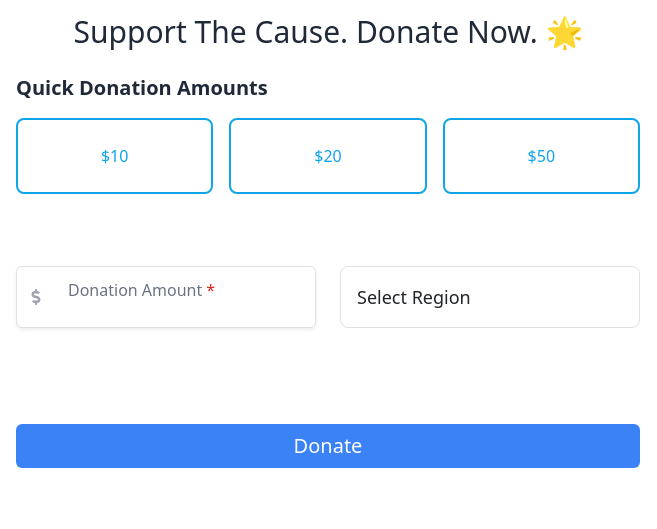
Test: Testing Donation feature › validates donation amount
// Try submitting with 0
Type "0" into the field with test id "donation amount".
click(166, 297); type("0")  # box [16, 266, 316, 328]
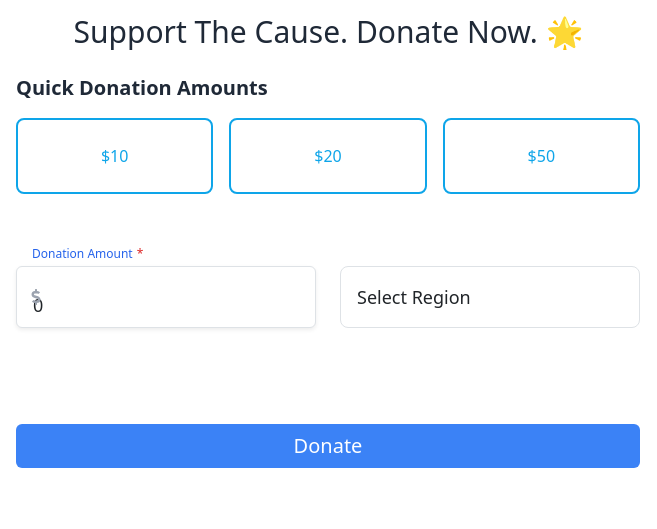
Click the button "Donate".
click(328, 446)  # box [16, 424, 640, 468]
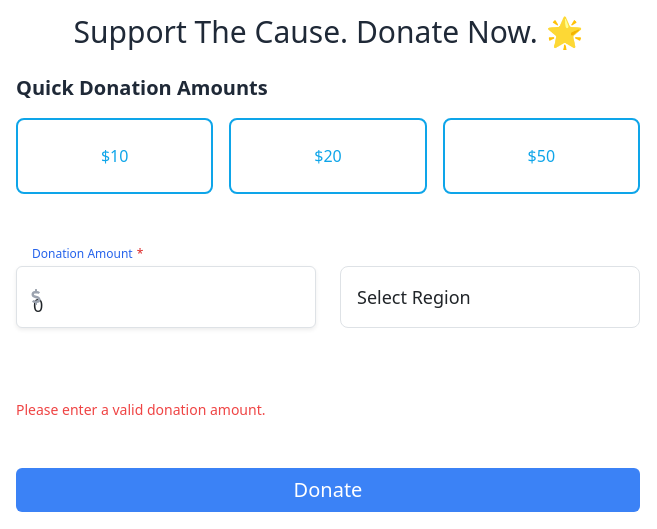
Expected: the text "Please enter a valid donation amount." is shown, [16, 400, 266, 419]
